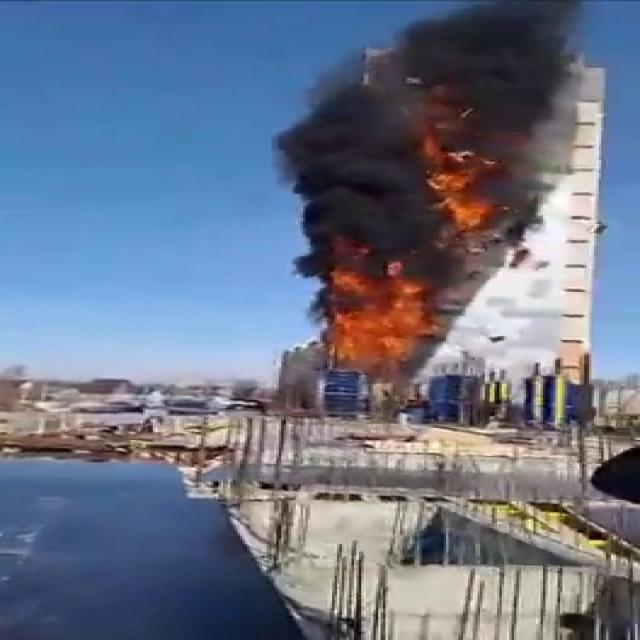Fire: (306, 260, 444, 380)
Smoke: (266, 1, 620, 292)
